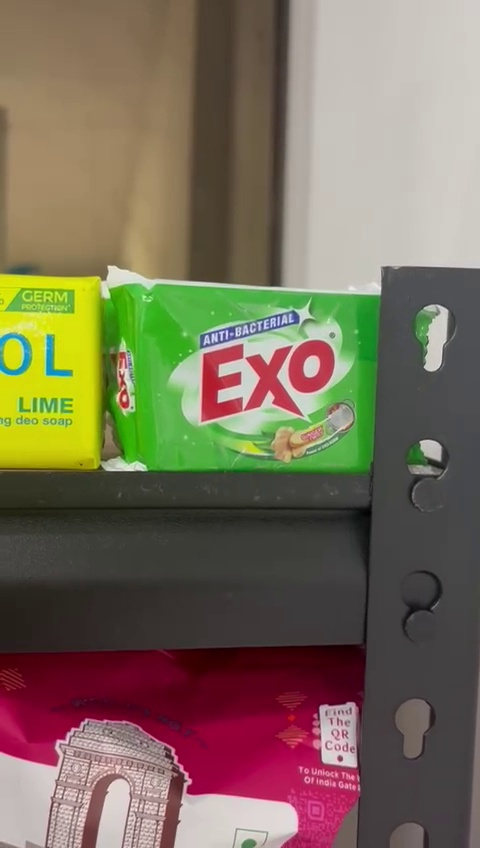Exo Soap: (111, 290, 379, 467)
